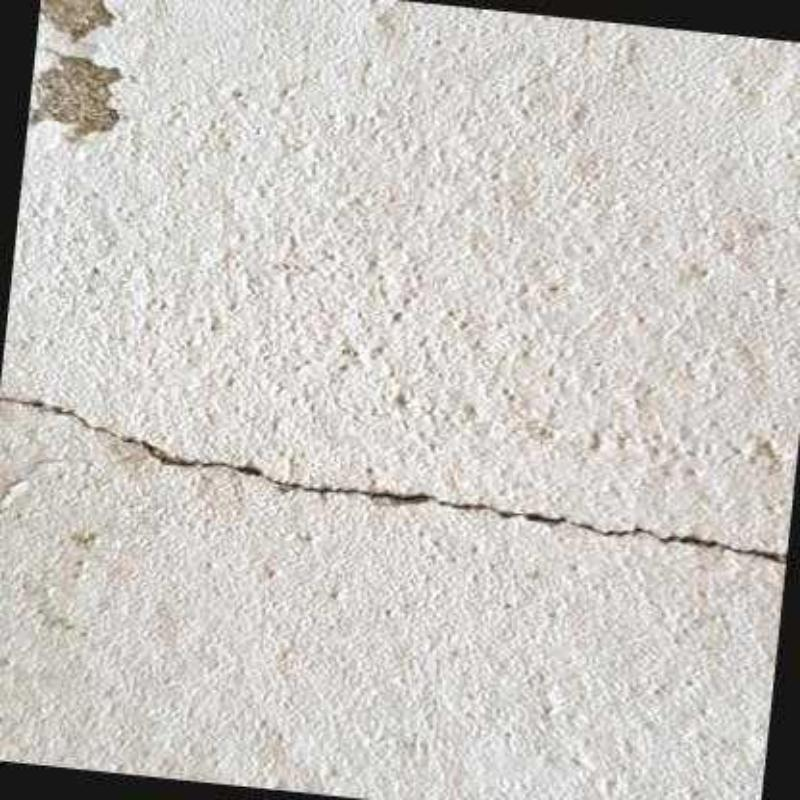pothole: (1, 397, 788, 564)
